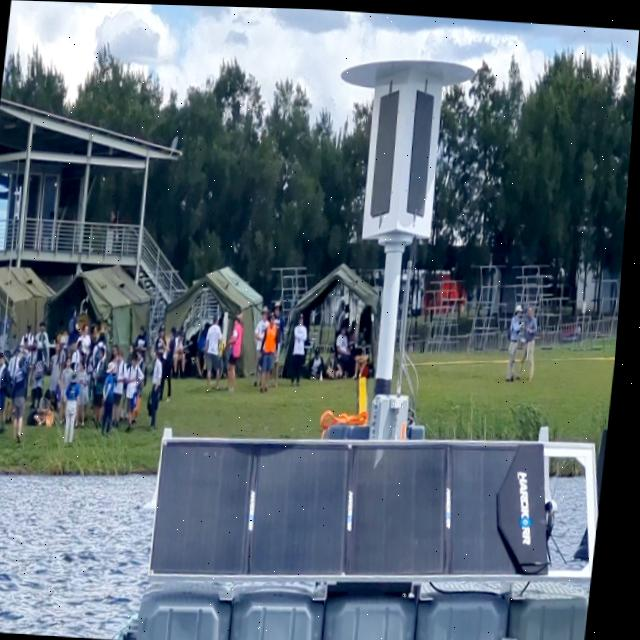led: (399, 78, 444, 230), (364, 84, 409, 224)
